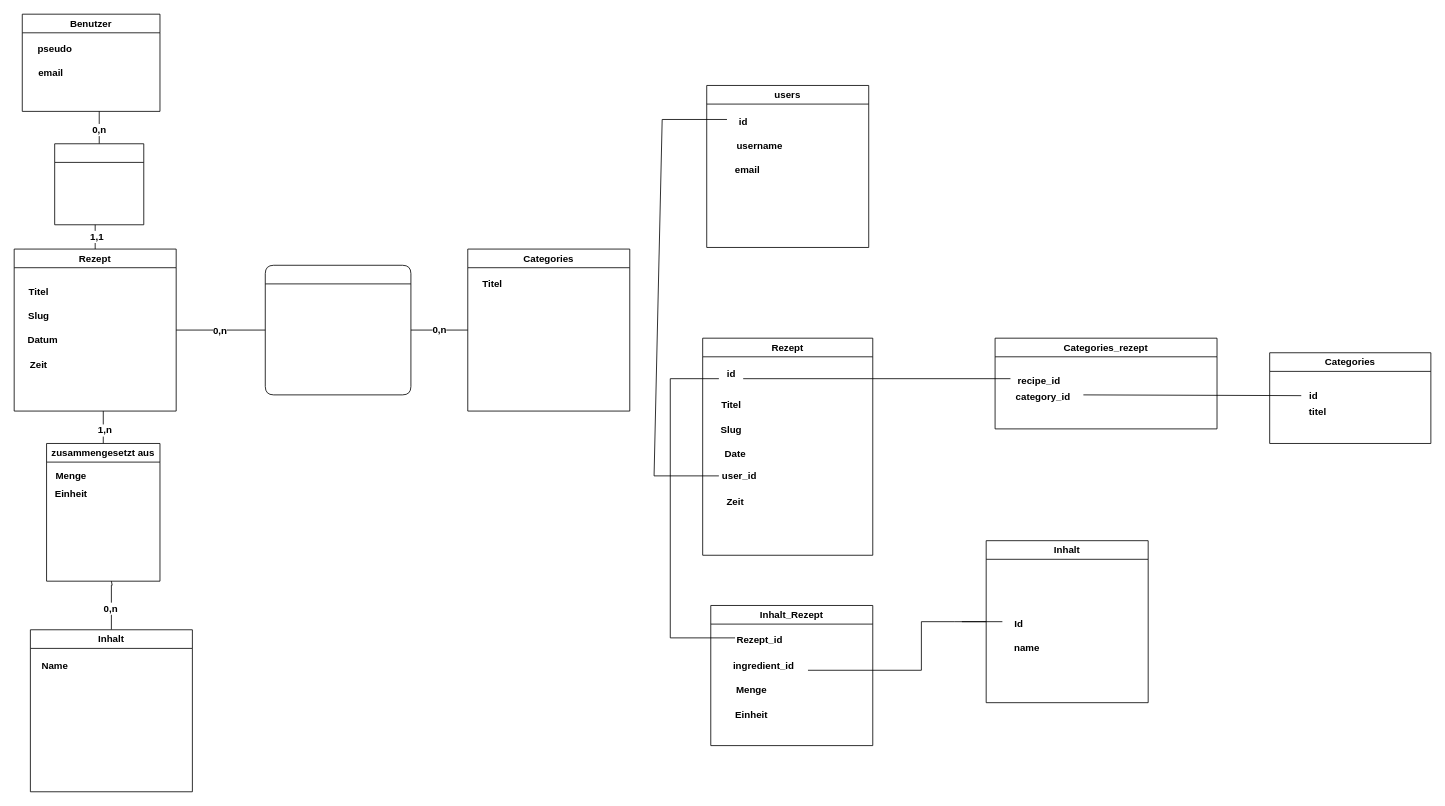
This 1445x806 diagram has some shape labels left out. Each missing label, with the centre of its shape:
"erstellt" belongs at (x=99, y=184).
"Gehört" belongs at (x=337, y=329).
